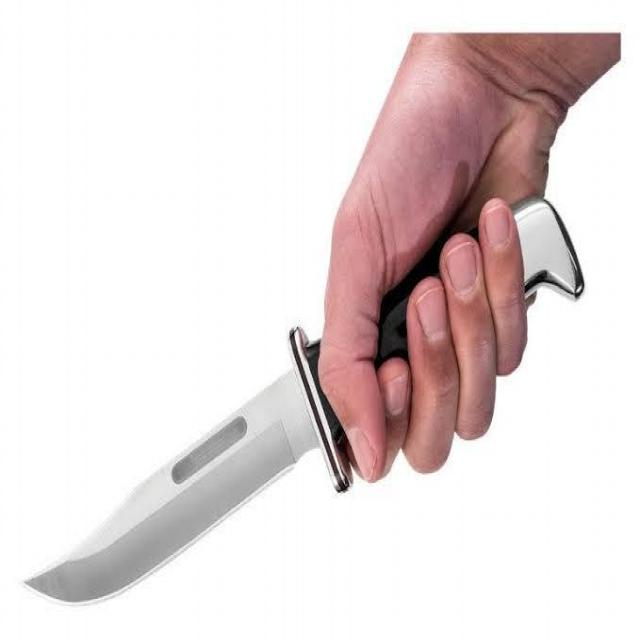knife: (20, 195, 582, 608)
